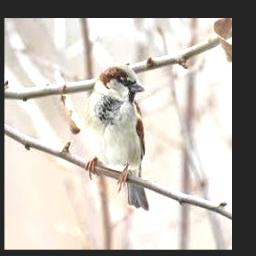Sparrow: (84, 64, 149, 210)
